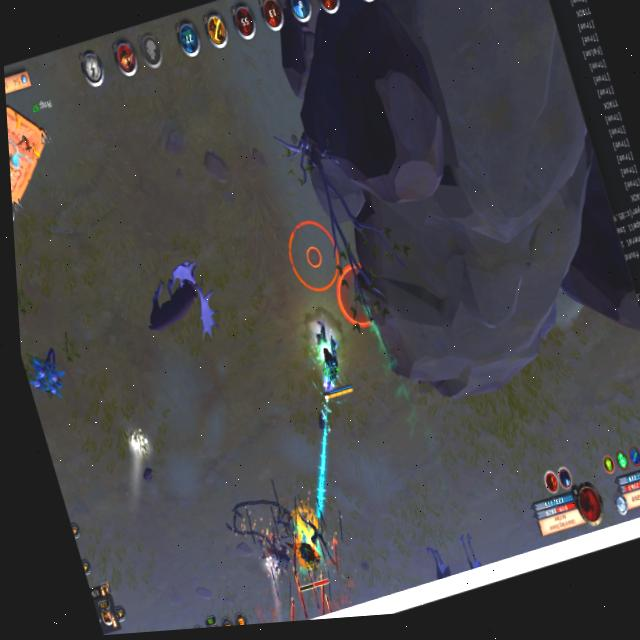hide: (20, 339, 72, 409)
ore: (128, 245, 232, 363), (271, 492, 344, 601)
red: (302, 313, 358, 409)
silver: (276, 211, 351, 302), (326, 257, 384, 336)
